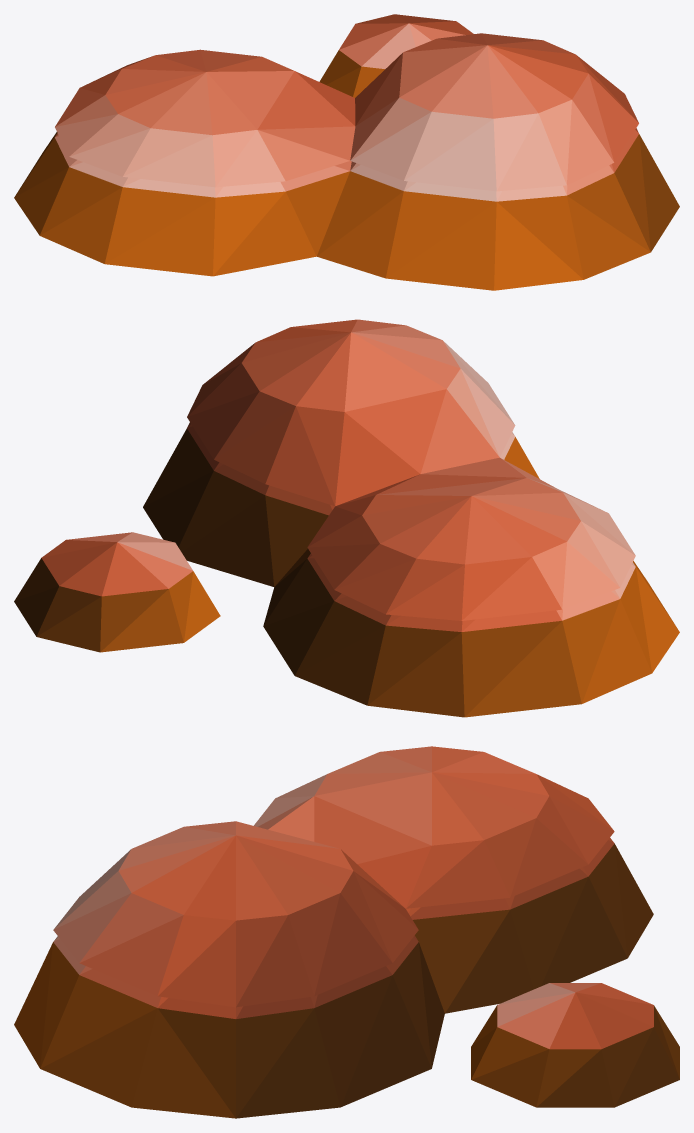
Rendered from molten-glass.obj.
3 views of the same model, one above another, from view 1: azimuth 30°, elevation 25°; view 2: azimuth 150°, elevation 25°; view 3: azimuth 270°, elevation 25° (orthographic). The views are drawn at different scales.
Parts seen in each view (by area): view 1: molten-glass; view 2: molten-glass; view 3: molten-glass.
Boxes of the visible parts, x1=… form: molten-glass: x1=14, y1=14, x2=679, y2=290; molten-glass: x1=14, y1=319, x2=679, y2=717; molten-glass: x1=14, y1=746, x2=679, y2=1118.
Bounding box in the file's own units: 54 × 16 × 51.
